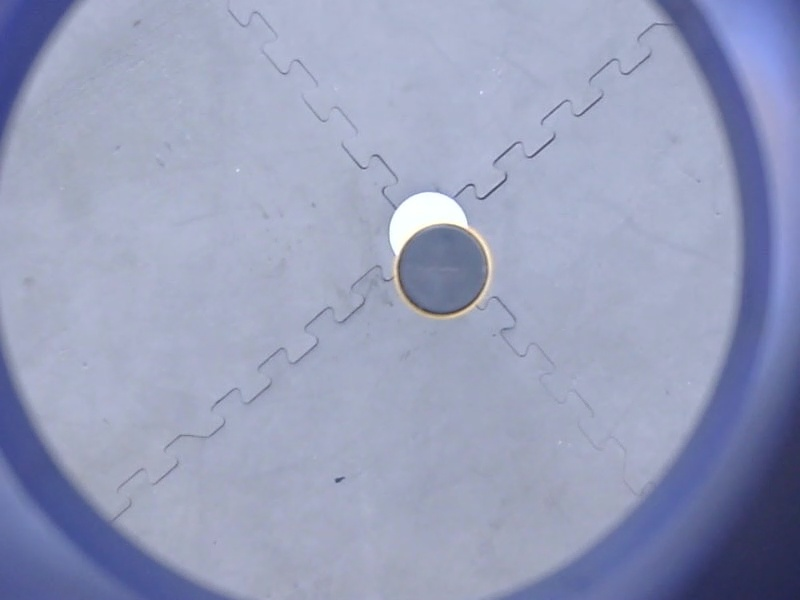tip: (390, 216, 497, 325)
